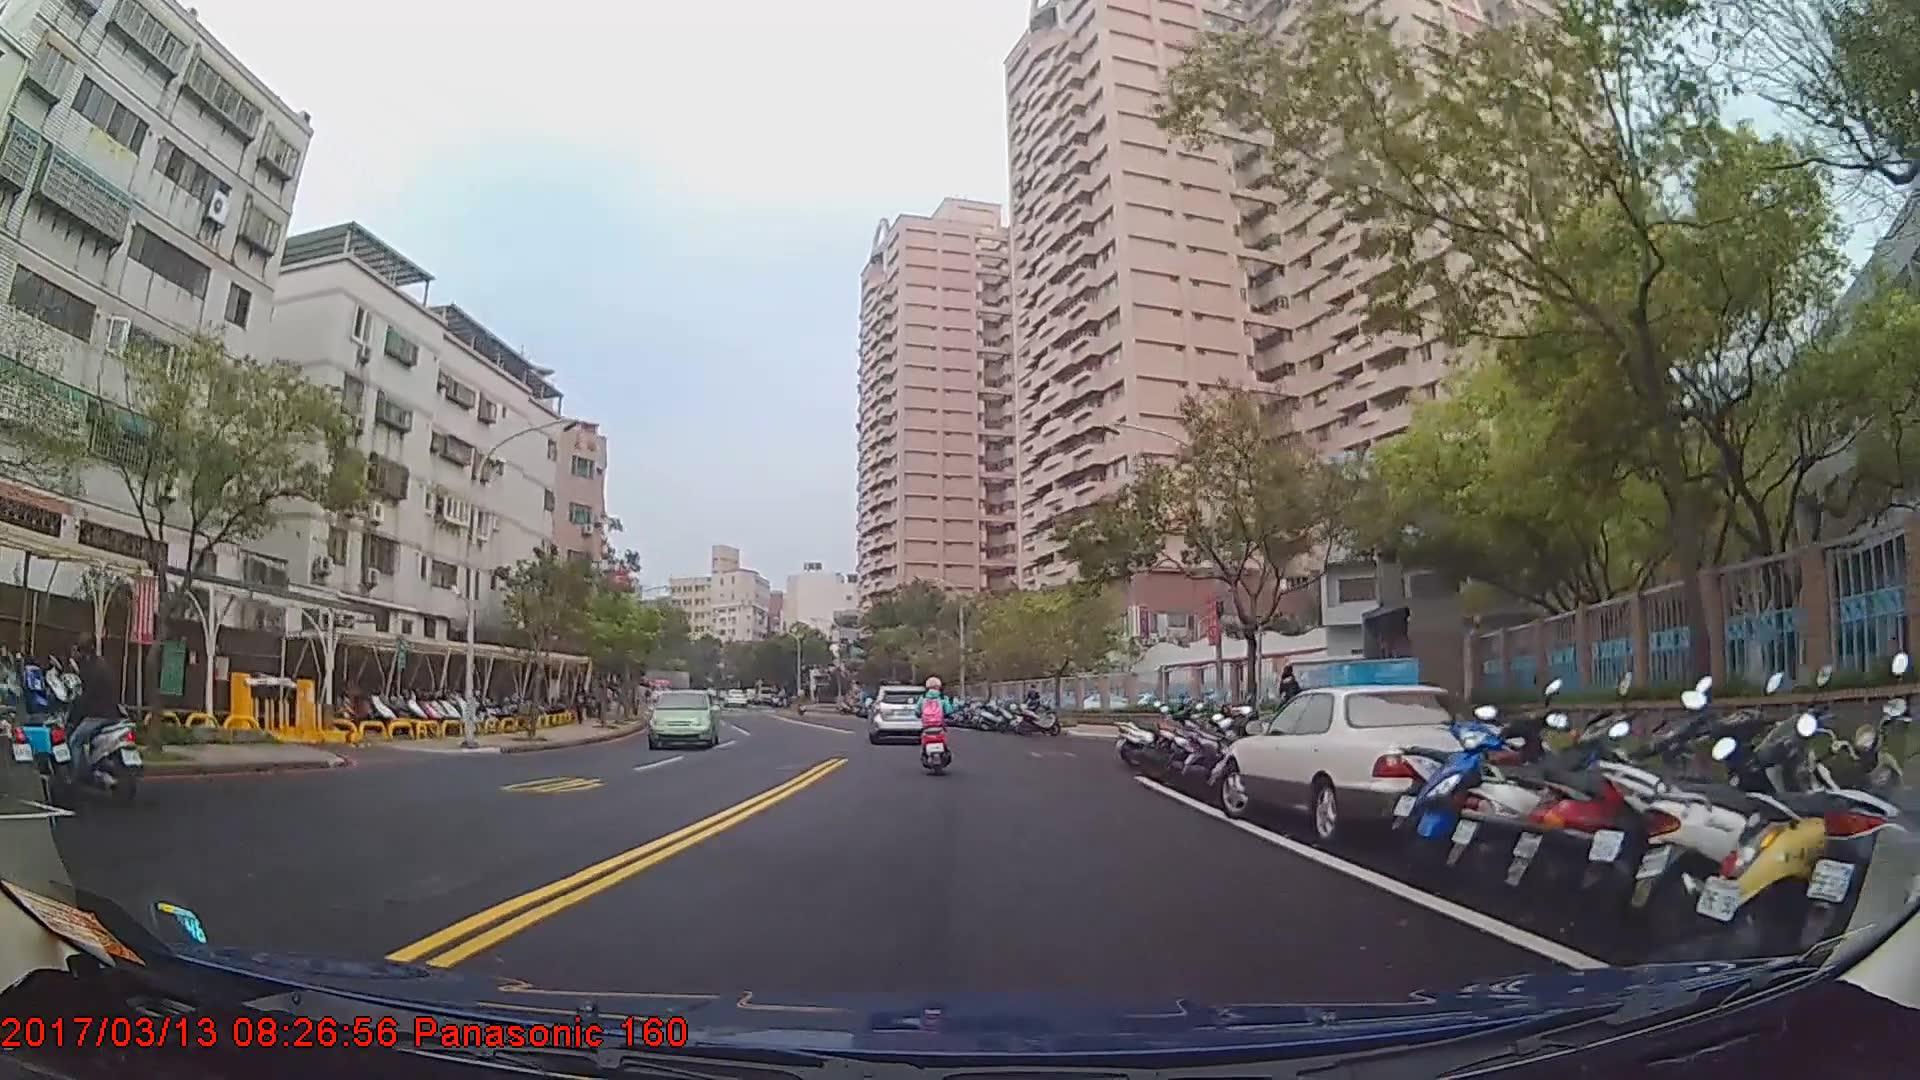pedestrian: (1279, 663, 1309, 747), (1024, 685, 1044, 728)
rider: (41, 641, 143, 803), (915, 674, 954, 779)
vehicle: (1213, 683, 1546, 839), (647, 687, 719, 749), (868, 682, 933, 742)
